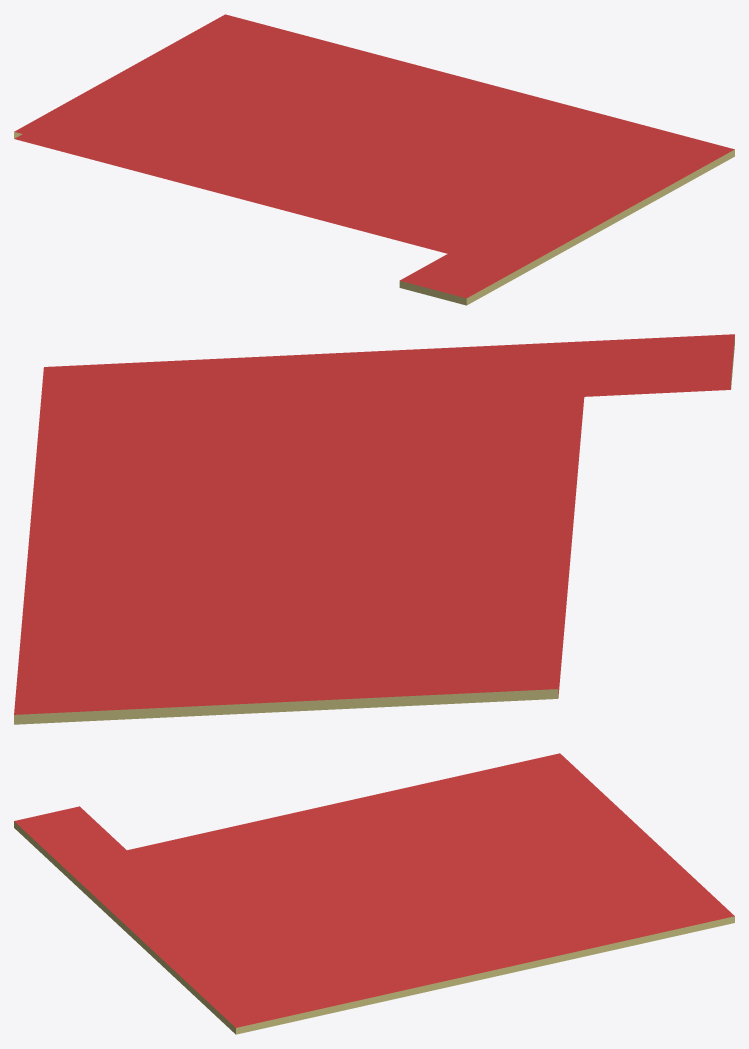
The picture shows the model from 3 angles, top to bottom: view 1: azimuth 30°, elevation 25°; view 2: azimuth 150°, elevation 25°; view 3: azimuth 270°, elevation 25°; orthographic projection. The views are drawn at different scales.
Size of the model in its own units: 7.99 by 9.69 by 0.542.
